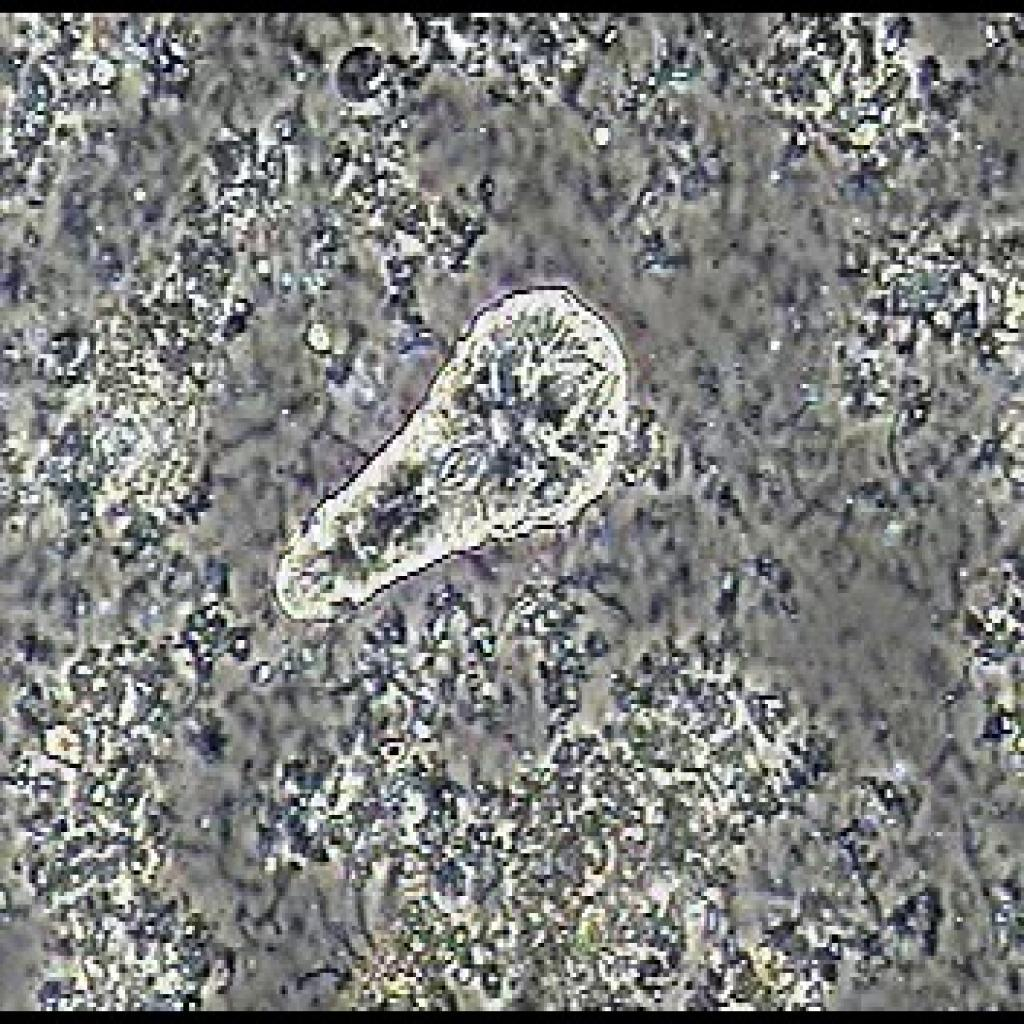Rotatoria: (272, 230, 639, 648), (13, 732, 19, 749)
